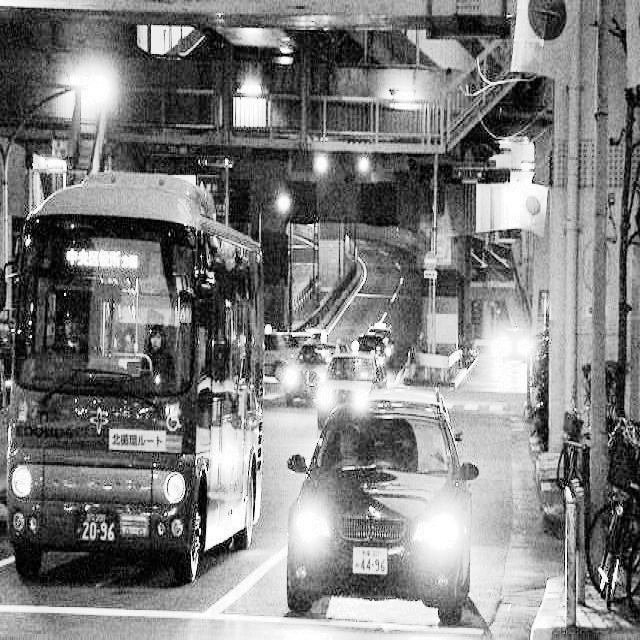Bicycle: (579, 405, 640, 613)
Bus: (0, 126, 275, 621)
Car: (297, 395, 501, 629), (318, 344, 391, 435), (260, 307, 331, 391), (351, 289, 404, 377), (302, 322, 344, 400), (499, 310, 529, 370)
